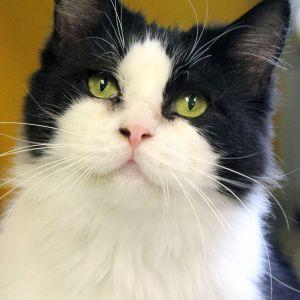ragdoll: (1, 1, 292, 229)
